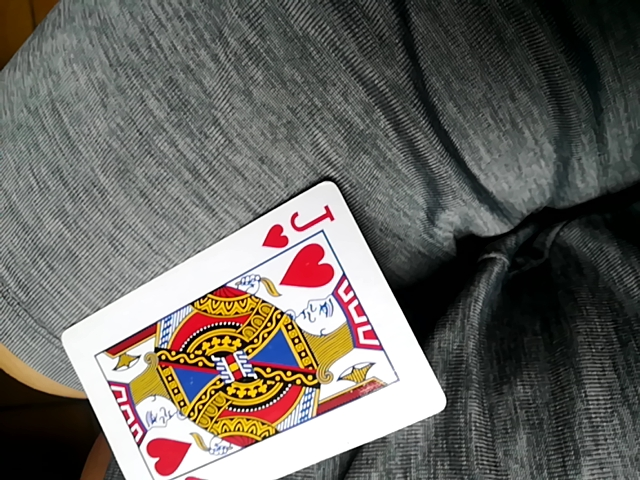hx j: (61, 177, 439, 477)
